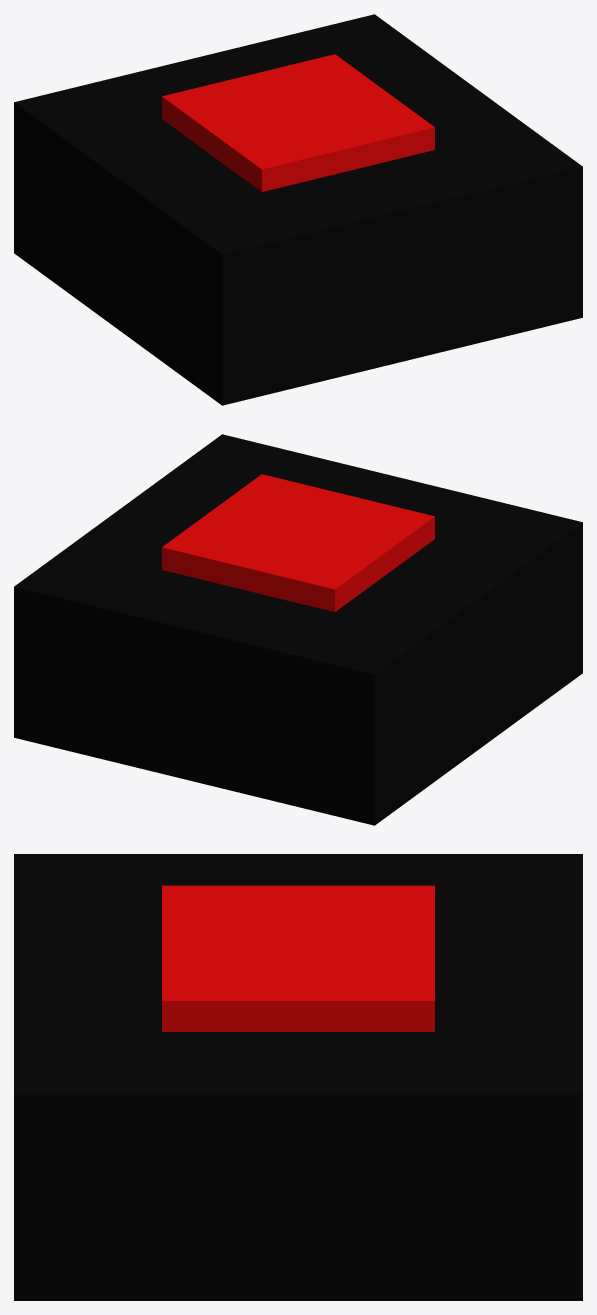
The model's file is pressure_plate.fbx.
The picture shows the model from 3 angles, top to bottom: view 1: azimuth 30°, elevation 25°; view 2: azimuth 150°, elevation 25°; view 3: azimuth 270°, elevation 25°; orthographic projection. The views are drawn at different scales.
Visible parts, largest first — view 1: Platform, Switch; view 2: Platform, Switch; view 3: Platform, Switch.
Part boxes in pixels (x1,y1,x2,y2): Platform: [14, 14, 582, 405]; Switch: [162, 54, 434, 191]; Platform: [14, 434, 582, 825]; Switch: [162, 474, 434, 611]; Platform: [14, 854, 582, 1300]; Switch: [162, 885, 434, 1031].
Size of the model in its own units: 100 by 46 by 100.
